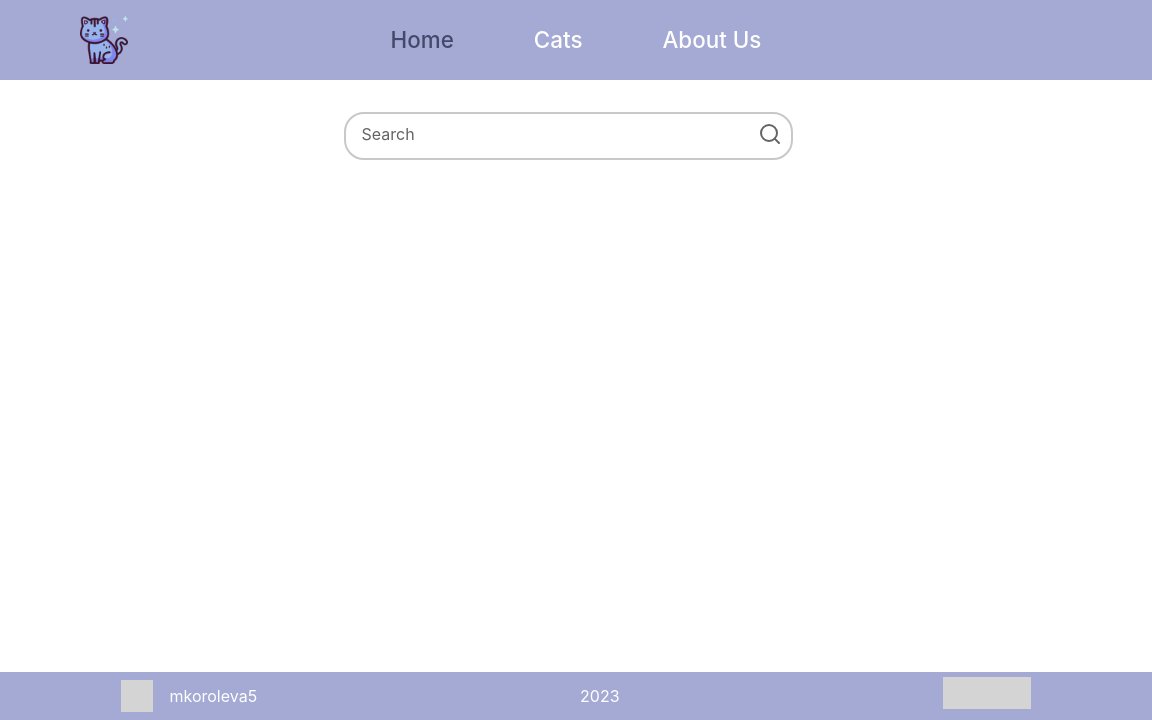
Scenario: Pages tests › checks if about link works
Click the link "About Us" at x=713, y=40, box [663,23,762,57]
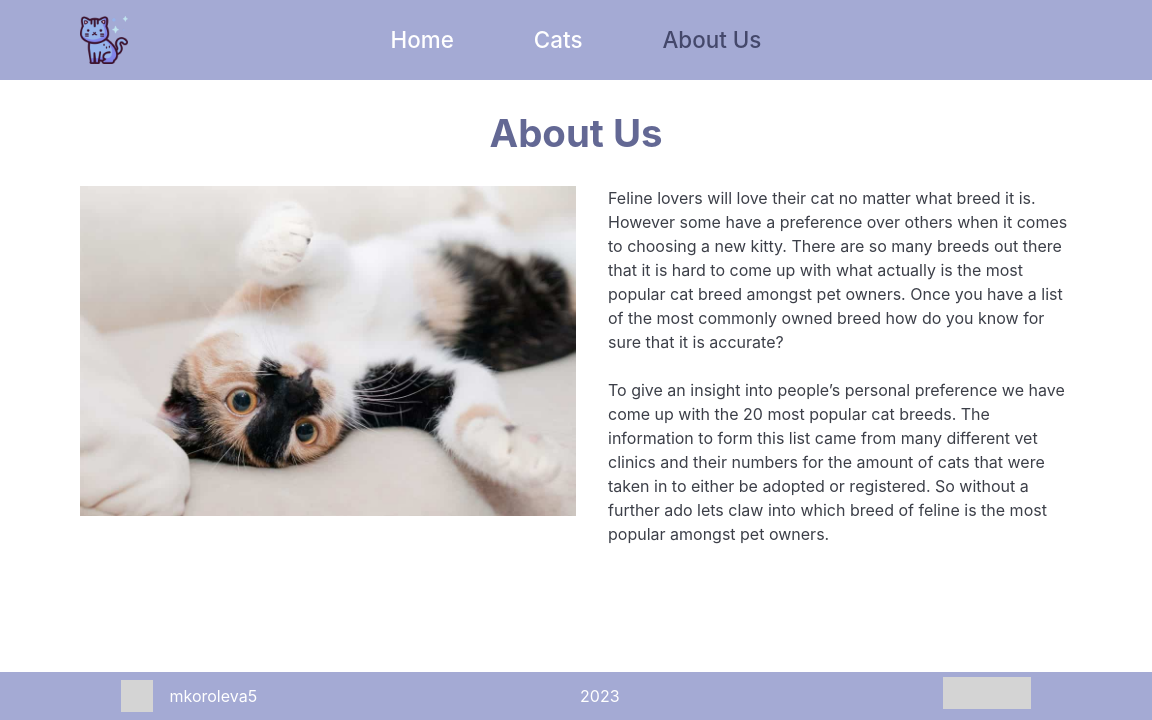
Check: the heading "About Us" is shown, box [490,112,663,154]
